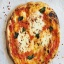olives: (13, 31, 22, 42), (25, 53, 37, 60), (19, 23, 27, 33), (38, 7, 48, 15), (17, 15, 25, 24), (47, 24, 54, 34), (35, 33, 41, 39)
pizza: (6, 1, 60, 64)
